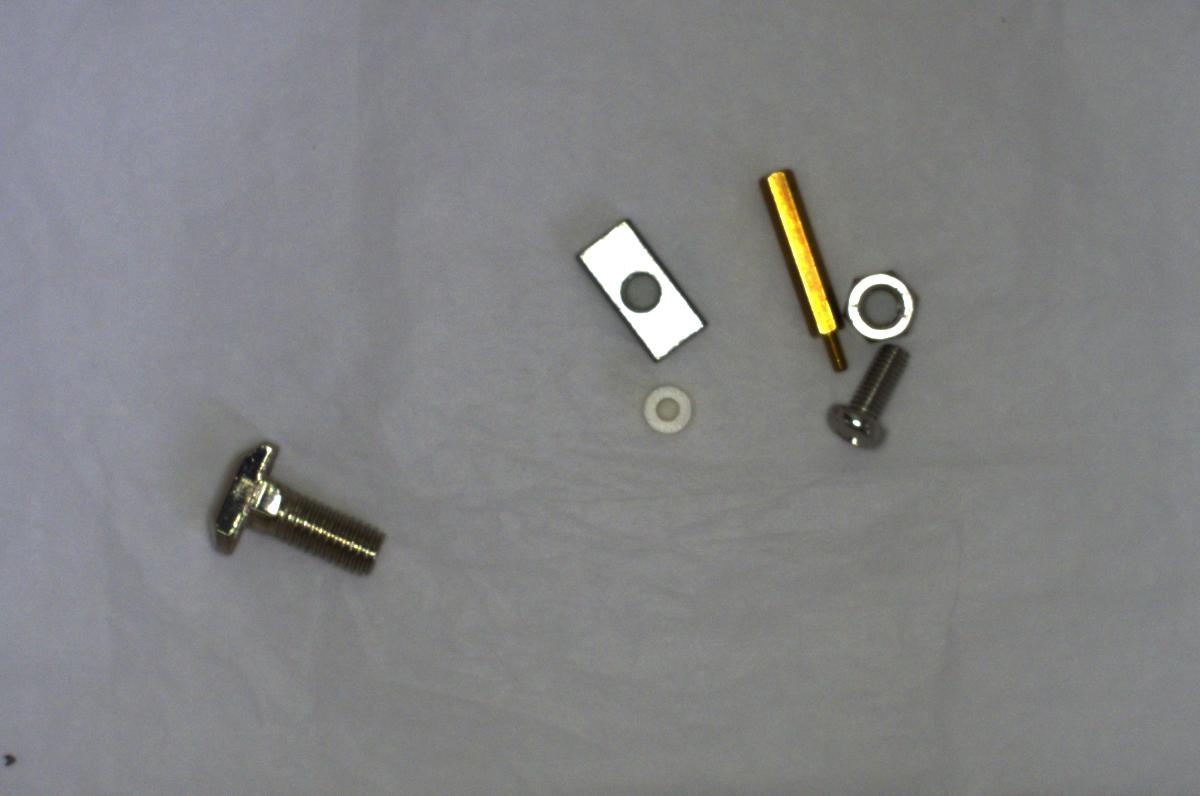Hexagon nut: (838, 263, 920, 342)
Hexagon pillar: (758, 163, 842, 369)
Plastic cushion pillar: (638, 386, 700, 439)
Rectangular nut: (579, 216, 711, 361)
Round head screw: (821, 339, 911, 456)
T-shaped screw: (210, 438, 391, 574)
